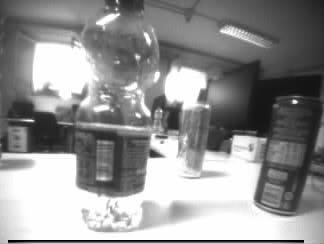Bottle: (72, 1, 163, 230)
Tin can: (253, 94, 324, 216), (175, 101, 209, 178)
